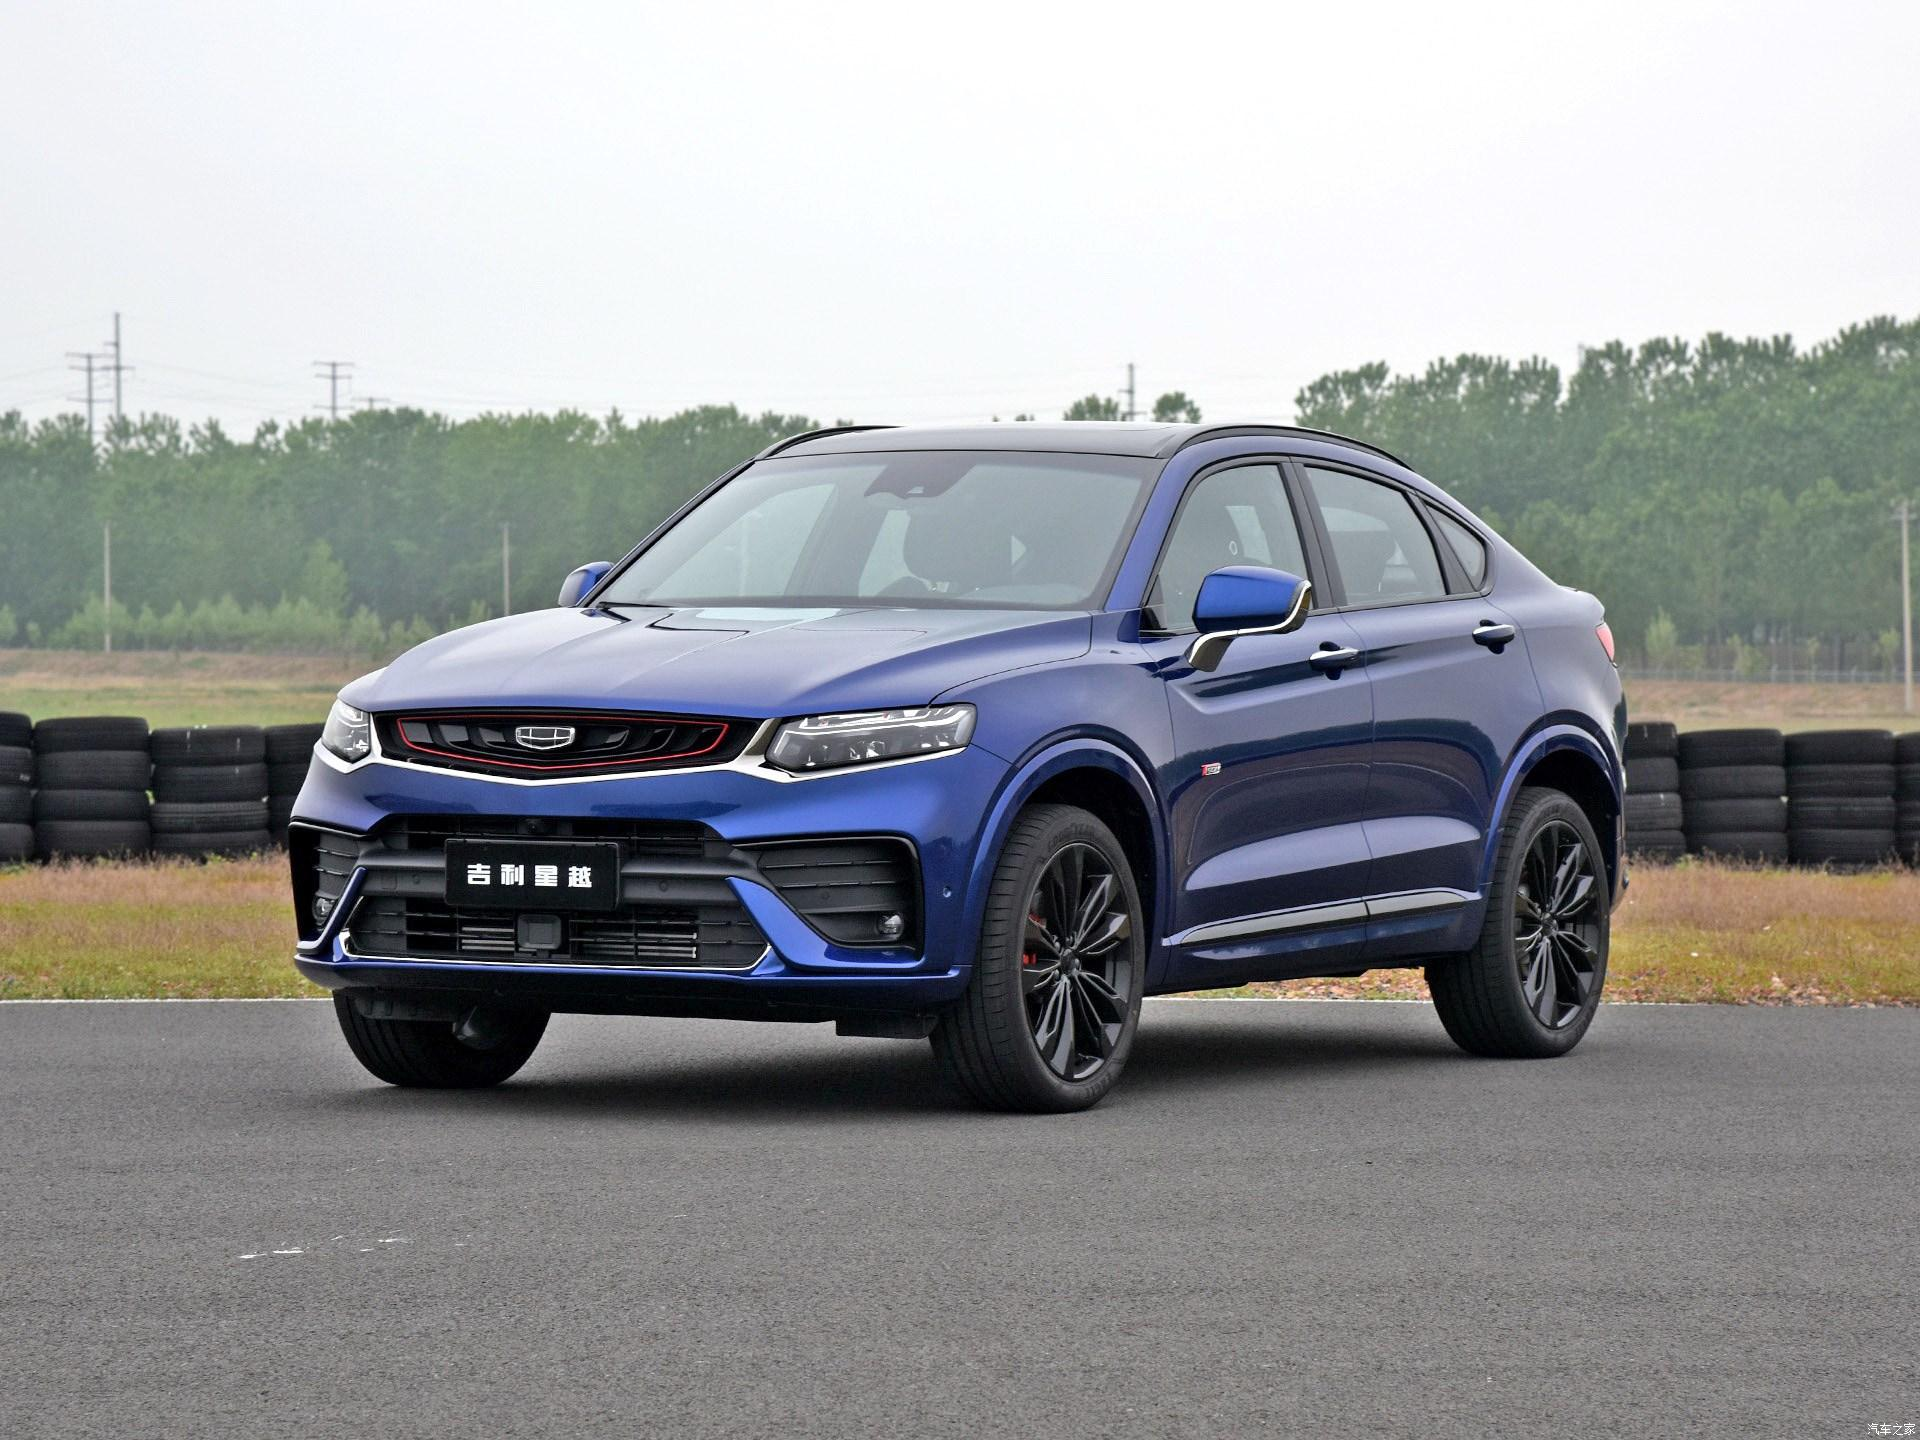car: (277, 303, 1658, 1198)
